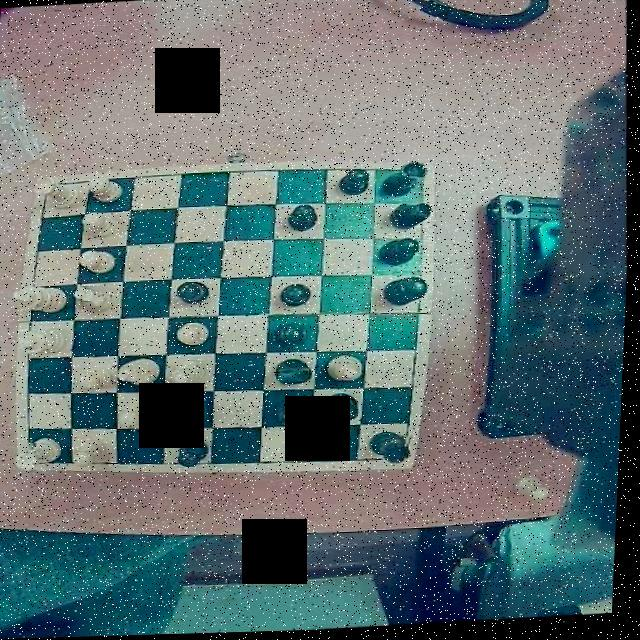chess-table-corners: (386, 437, 420, 471), (23, 442, 54, 472), (403, 165, 432, 197), (38, 178, 66, 202)
